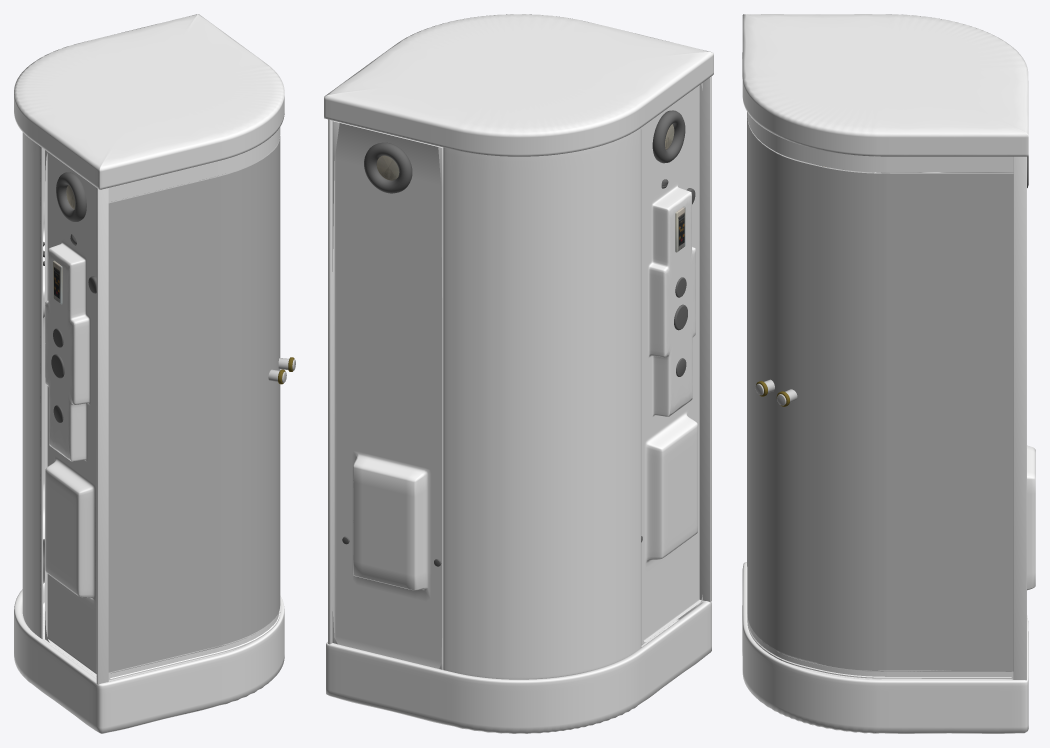
Rendered from SR206-CABINA (1).glb.
The picture shows the model from 3 angles, left to right: view 1: azimuth 30°, elevation 25°; view 2: azimuth 150°, elevation 25°; view 3: azimuth 270°, elevation 25°; orthographic projection. The views are drawn at different scales.
Visible parts, largest first — view 1: Line025, ChamferBox005, Line009, Line008, ChamferCyl053; view 2: ChamferBox005, Line009, Line008, ChamferCyl053; view 3: Line025, Line009, Line008, ChamferBox005.
Part boxes in pixels (x1,y1,x2,y2): Line025: (108, 135, 280, 672); ChamferBox005: (22, 132, 108, 684); Line009: (14, 14, 284, 202); Line008: (14, 582, 284, 733); ChamferCyl053: (43, 172, 86, 422); ChamferBox005: (328, 76, 711, 679); Line009: (324, 14, 713, 156); Line008: (326, 600, 711, 733); ChamferCyl053: (364, 110, 687, 376); Line025: (747, 117, 1013, 671); Line009: (742, 14, 1028, 172); Line008: (742, 562, 1028, 733); ChamferBox005: (747, 112, 1035, 680).
Size of the model in its own units: 0.9578 by 2.18 by 0.9558.
Materials: 10 (3 with a texture image).
